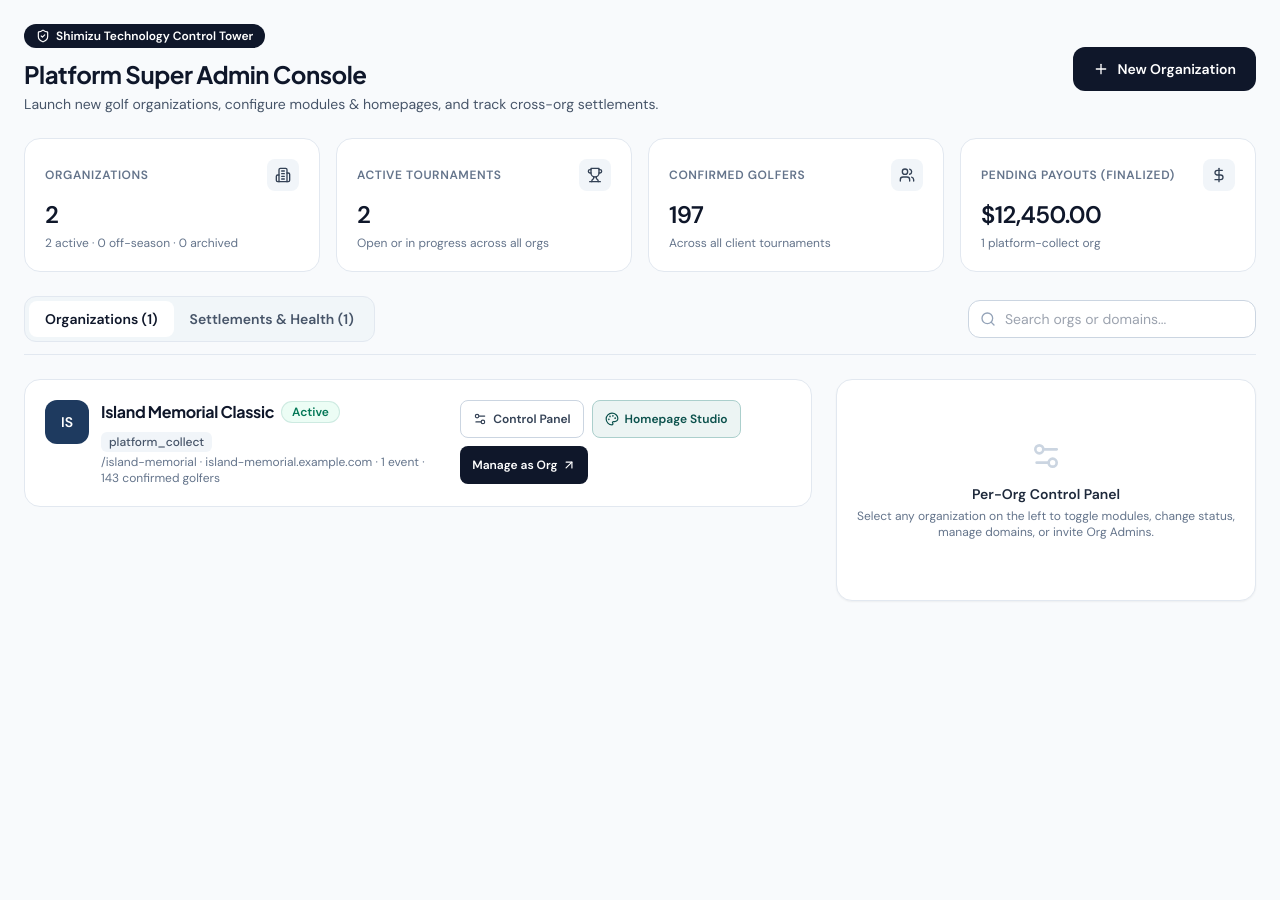
Test case: PlatformConsolePage › completes the 5-step New Organization Wizard and sends only non-default feature overrides
Later steps or results of the test are not shown.
Step 1. Click the button "New Organization" → click(1165, 69), box [1073, 47, 1256, 91]
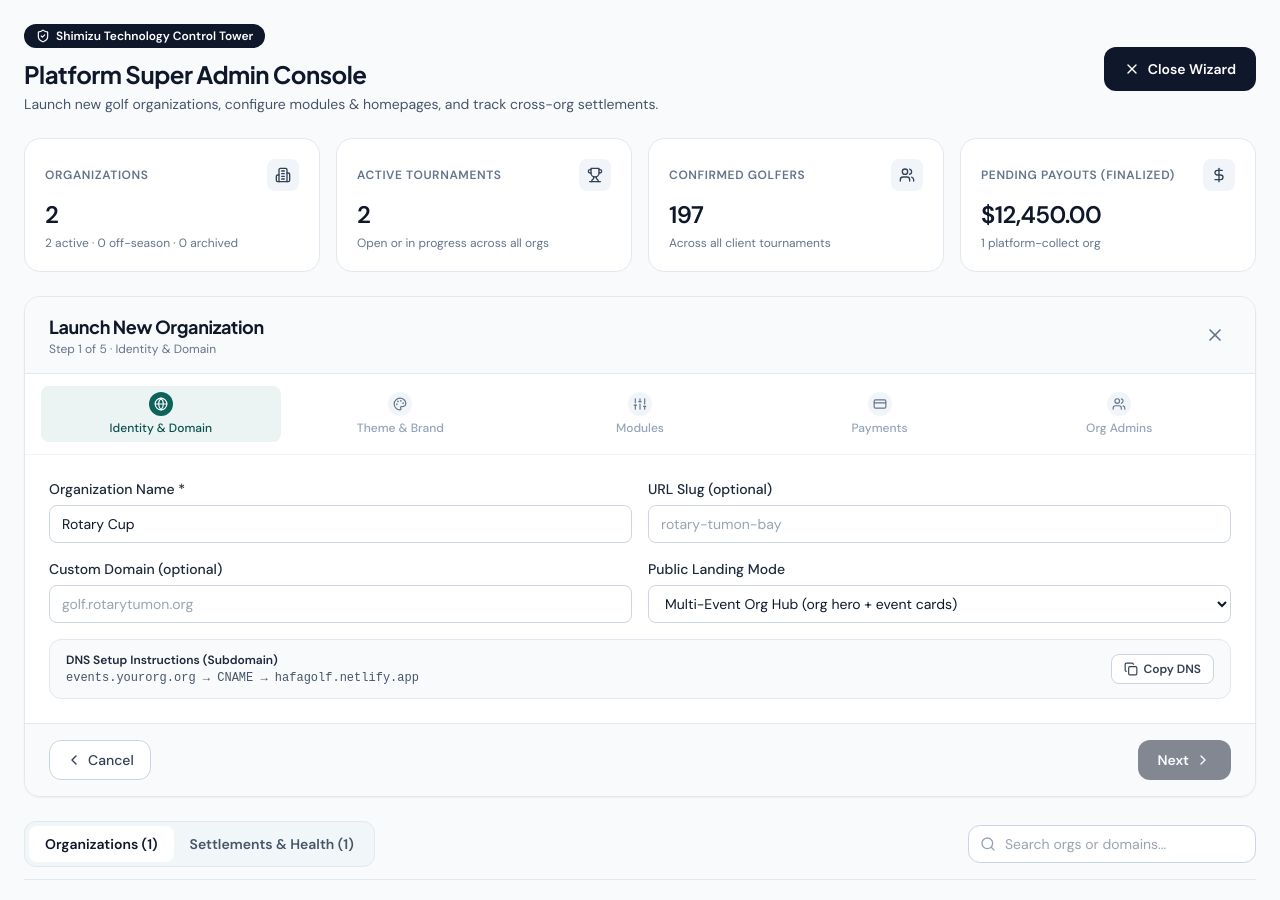
Check: the element with test id "new-org-wizard" is shown, box [24, 296, 1256, 797]
